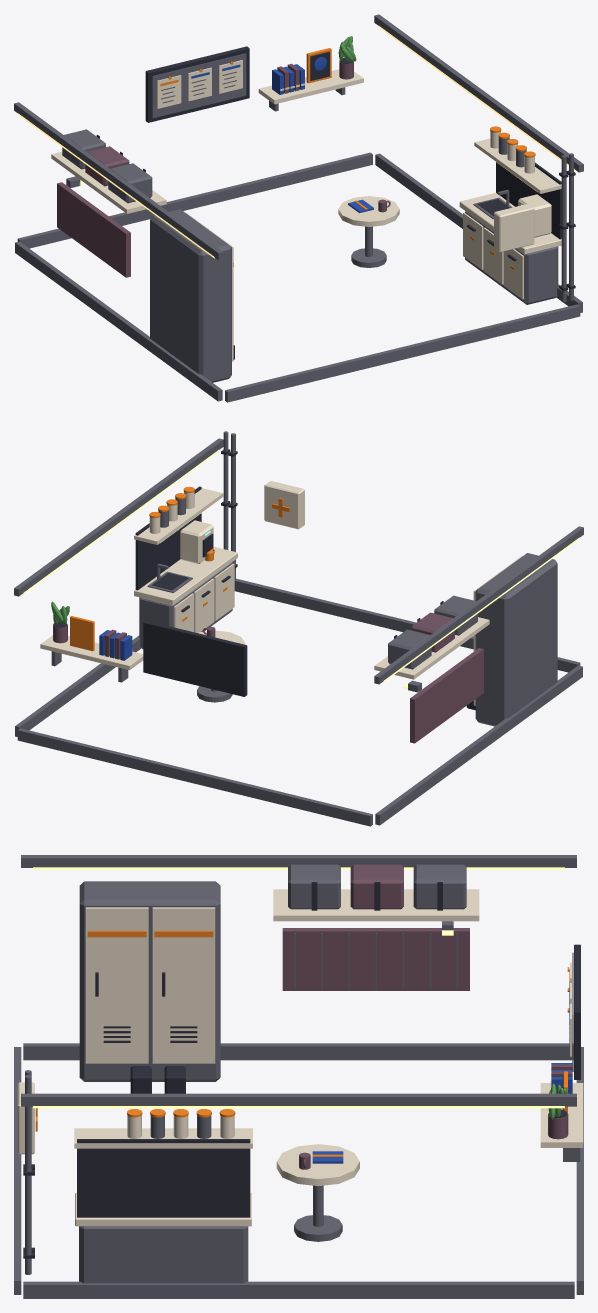
Rendered from asset.glb.
3 renders of one model, top to bottom at view 1: azimuth 30°, elevation 25°; view 2: azimuth 150°, elevation 25°; view 3: azimuth 270°, elevation 25°, orthographic. The views are drawn at different scales.
Parts seen in each view (by area): view 1: Mesh_LockerCarcass, Mesh_EndSkirting_2.91, Mesh_EndSkirting_-2.91, Mesh_BunkHeadboard, Mesh_Skirting_-2.92, Mesh_UpperServiceRail_-2.92, Mesh_UpperServiceRail_2.92, Mesh_BoardInset, Mesh_GalleyBase, Mesh_FirstAidCase, Mesh_MissionBoard, Mesh_GalleyBacksplash (+19 smaller); view 2: Mesh_LockerCarcass, Mesh_MissionBoard, Mesh_EndSkirting_-2.91, Mesh_BunkHeadboard, Mesh_Skirting_-2.92, Mesh_EndSkirting_2.91, Mesh_UpperServiceRail_2.92, Mesh_UpperServiceRail_-2.92, Mesh_Worktop, Mesh_GalleyBacksplash, Mesh_FirstAidCase, Mesh_Skirting_2.92 (+14 smaller); view 3: Mesh_GalleyBacksplash, Mesh_BunkHeadboard, Mesh_GalleyBase, Mesh_Skirting_2.92, Mesh_LockerDoor_1, Mesh_LockerDoor_0, Mesh_LockerCarcass, Mesh_Skirting_-2.92, Mesh_UpperServiceRail_2.92, Mesh_UpperServiceRail_-2.92, Mesh_BunkShelf, Mesh_GalleyShelf (+16 smaller).
Boxes of the visible parts, box(x1,y1,x2,y2) form: Mesh_LockerCarcass: box(150, 209, 231, 382); Mesh_EndSkirting_2.91: box(225, 304, 580, 402); Mesh_EndSkirting_-2.91: box(17, 152, 372, 248); Mesh_BunkHeadboard: box(57, 182, 130, 277); Mesh_Skirting_-2.92: box(15, 241, 222, 401); Mesh_UpperServiceRail_-2.92: box(14, 102, 223, 260); Mesh_UpperServiceRail_2.92: box(374, 14, 583, 172); Mesh_BoardInset: box(152, 53, 246, 118); Mesh_GalleyBase: box(465, 211, 558, 304); Mesh_FirstAidCase: box(494, 204, 534, 252); Mesh_MissionBoard: box(145, 46, 249, 122); Mesh_GalleyBacksplash: box(496, 162, 561, 239); Mesh_LockerCarcass: box(475, 553, 557, 726); Mesh_MissionBoard: box(143, 620, 247, 696); Mesh_EndSkirting_-2.91: box(17, 728, 372, 826); Mesh_BunkHeadboard: box(410, 648, 483, 743); Mesh_Skirting_-2.92: box(375, 665, 582, 825); Mesh_EndSkirting_2.91: box(234, 578, 580, 672); Mesh_UpperServiceRail_2.92: box(14, 438, 223, 596); Mesh_UpperServiceRail_-2.92: box(374, 526, 583, 684); Mesh_Worktop: box(134, 547, 237, 605); Mesh_GalleyBacksplash: box(135, 486, 201, 590); Mesh_FirstAidCase: box(264, 481, 304, 529); Mesh_Skirting_2.92: box(15, 635, 141, 736); Mesh_GalleyBacksplash: box(77, 1139, 250, 1217); Mesh_BunkHeadboard: box(282, 928, 469, 990); Mesh_GalleyBase: box(79, 1226, 248, 1283); Mesh_Skirting_2.92: box(23, 1281, 574, 1298); Mesh_LockerDoor_1: box(85, 907, 148, 1063); Mesh_LockerDoor_0: box(152, 907, 215, 1063); Mesh_LockerCarcass: box(79, 881, 220, 1081); Mesh_Skirting_-2.92: box(23, 1043, 573, 1060); Mesh_UpperServiceRail_2.92: box(21, 1093, 576, 1106); Mesh_UpperServiceRail_-2.92: box(21, 855, 576, 867); Mesh_BunkShelf: box(273, 889, 479, 921); Mesh_GalleyShelf: box(74, 1128, 252, 1148).
Size of the model in its own units: 5.93 by 2.49 by 5.9.
